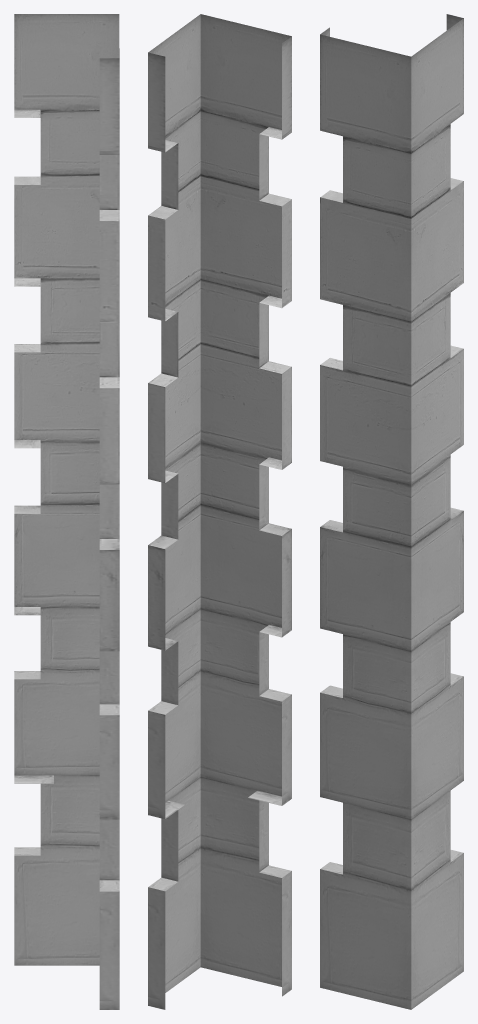
File: WallCorner1C.fbx
3 renders of one model, left to right at view 1: azimuth 90°, elevation 25°; view 2: azimuth 150°, elevation 25°; view 3: azimuth 330°, elevation 25°, orthographic.
Visible parts, largest first — view 1: WallCorner1C; view 2: WallCorner1C; view 3: WallCorner1C.
Boxes of the visible parts, left/top/right/bottom form: WallCorner1C: left=14, top=14, right=119, bottom=1009; WallCorner1C: left=148, top=14, right=291, bottom=1009; WallCorner1C: left=320, top=14, right=463, bottom=1009.
Size of the model in its own units: 40 by 400 by 40.
